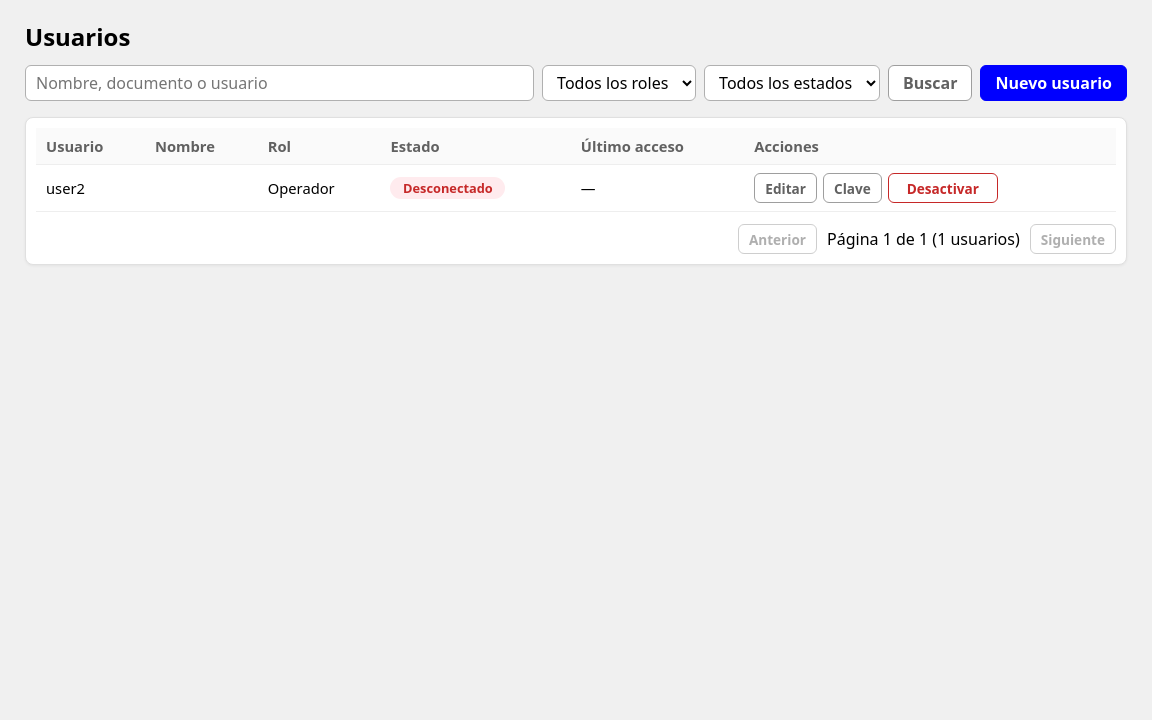
Test: UserListPage › debería abrir modal de nueva contraseña al hacer clic
Expected: the text "user2" is shown, [36,164,145,212]
Click the button "Clave": (852, 188) [823,173,882,203]
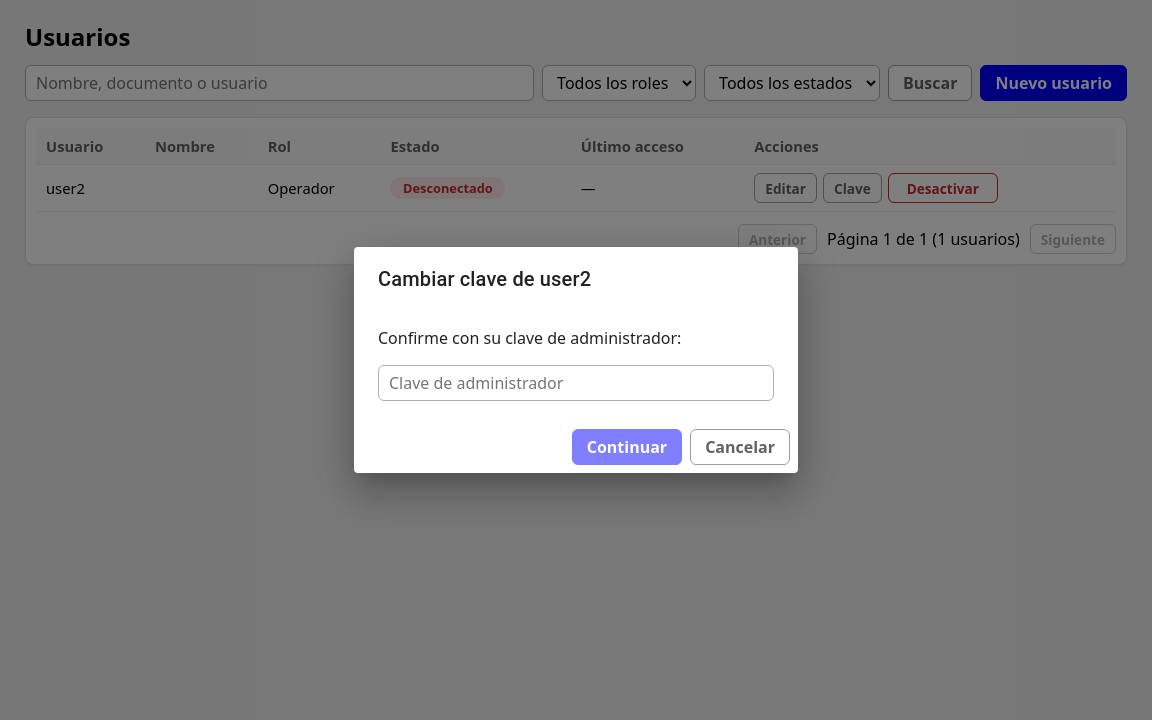
Now the text "Confirme con su clave de administrador:" is shown, box [378,327,681,349]
